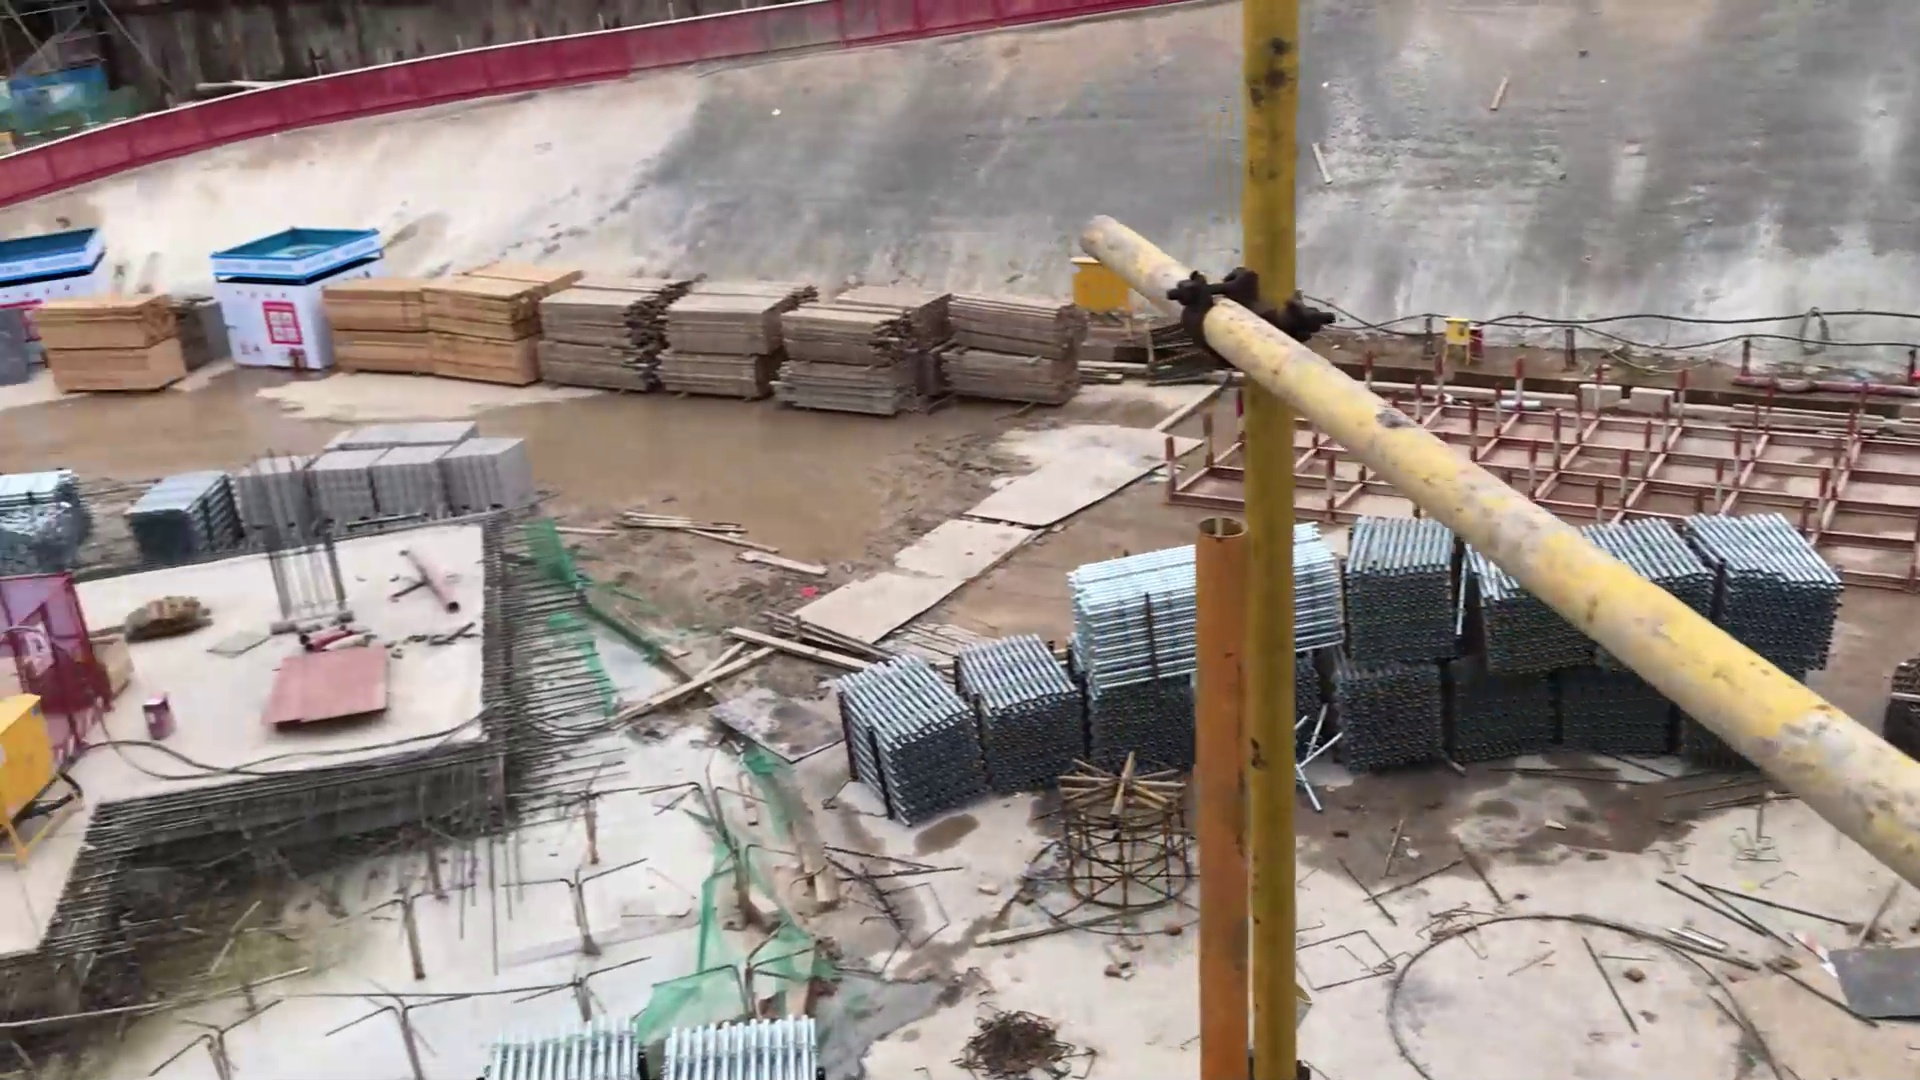board: (332, 257, 568, 400), (33, 287, 193, 407), (256, 632, 400, 746)
brick: (227, 450, 324, 547), (444, 434, 541, 526), (371, 440, 459, 539), (324, 415, 501, 455), (311, 444, 389, 531)
ebox: (7, 684, 67, 870), (1071, 255, 1141, 338), (1443, 313, 1474, 372)
fence: (620, 3, 881, 76)
scaffold: (1071, 545, 1192, 794), (825, 653, 986, 833), (1712, 504, 1851, 665), (967, 636, 1089, 798), (1352, 524, 1469, 659), (1333, 665, 1456, 775), (651, 1007, 825, 1080), (128, 464, 245, 560), (492, 1021, 636, 1080)
slogan: (256, 298, 310, 352)
wood: (795, 282, 944, 419), (659, 268, 812, 398), (538, 261, 673, 393), (945, 284, 1084, 404)
